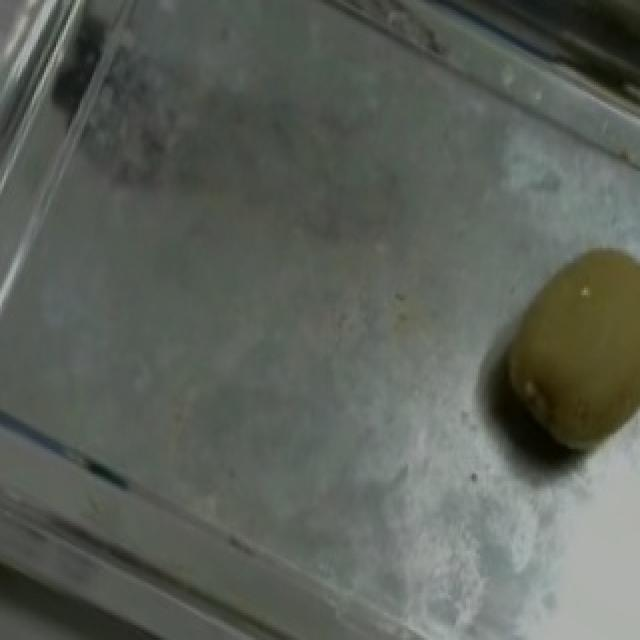Fruit: (466, 216, 640, 486)
